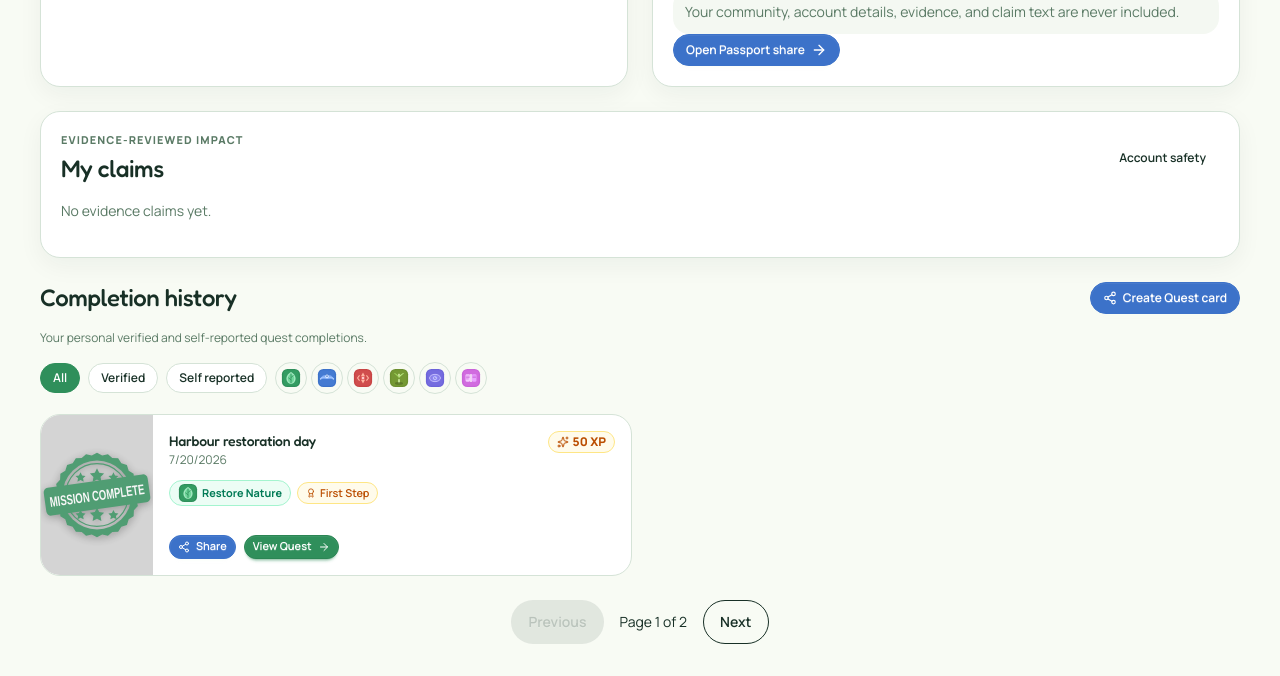
Scenario: PassportPage › F18: clamps to the last page when a refetch returns fewer pages
The width and height of the screenshot is (1280, 676).
(page scrolled)
Click the button with aria-label "Go to next page".
click(736, 622)  # box [703,600,768,644]
(page scrolled)
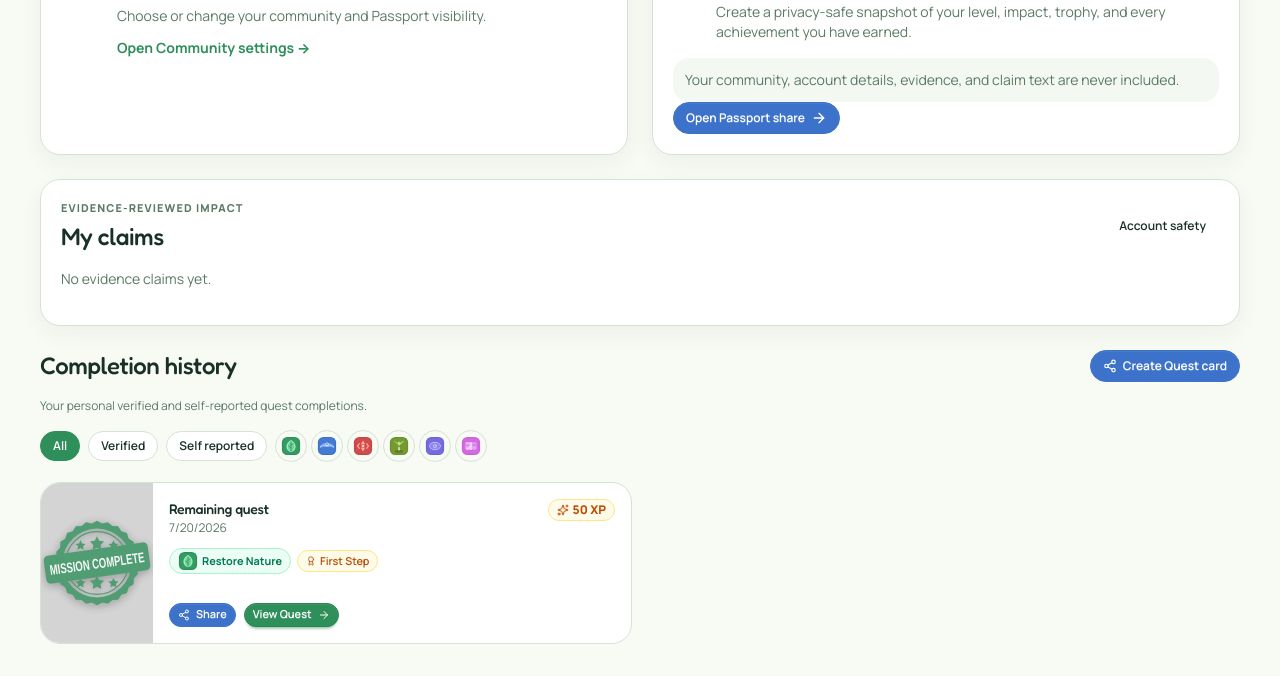
Expected: the heading "Remaining quest" is shown, [169,498,269,518]
